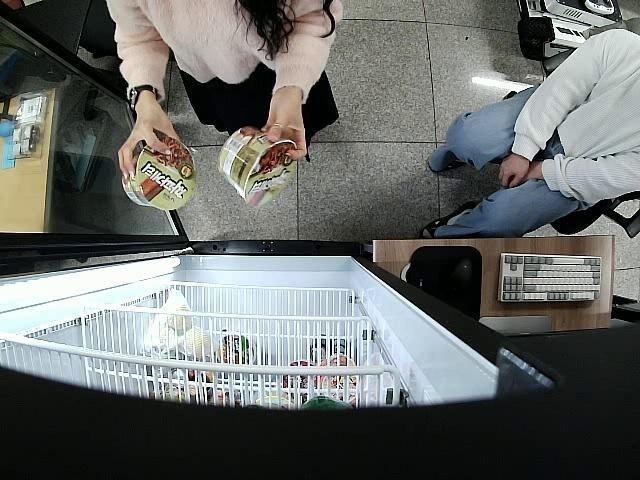03_chapagetti_L: (219, 127, 298, 206), (122, 137, 197, 210)
